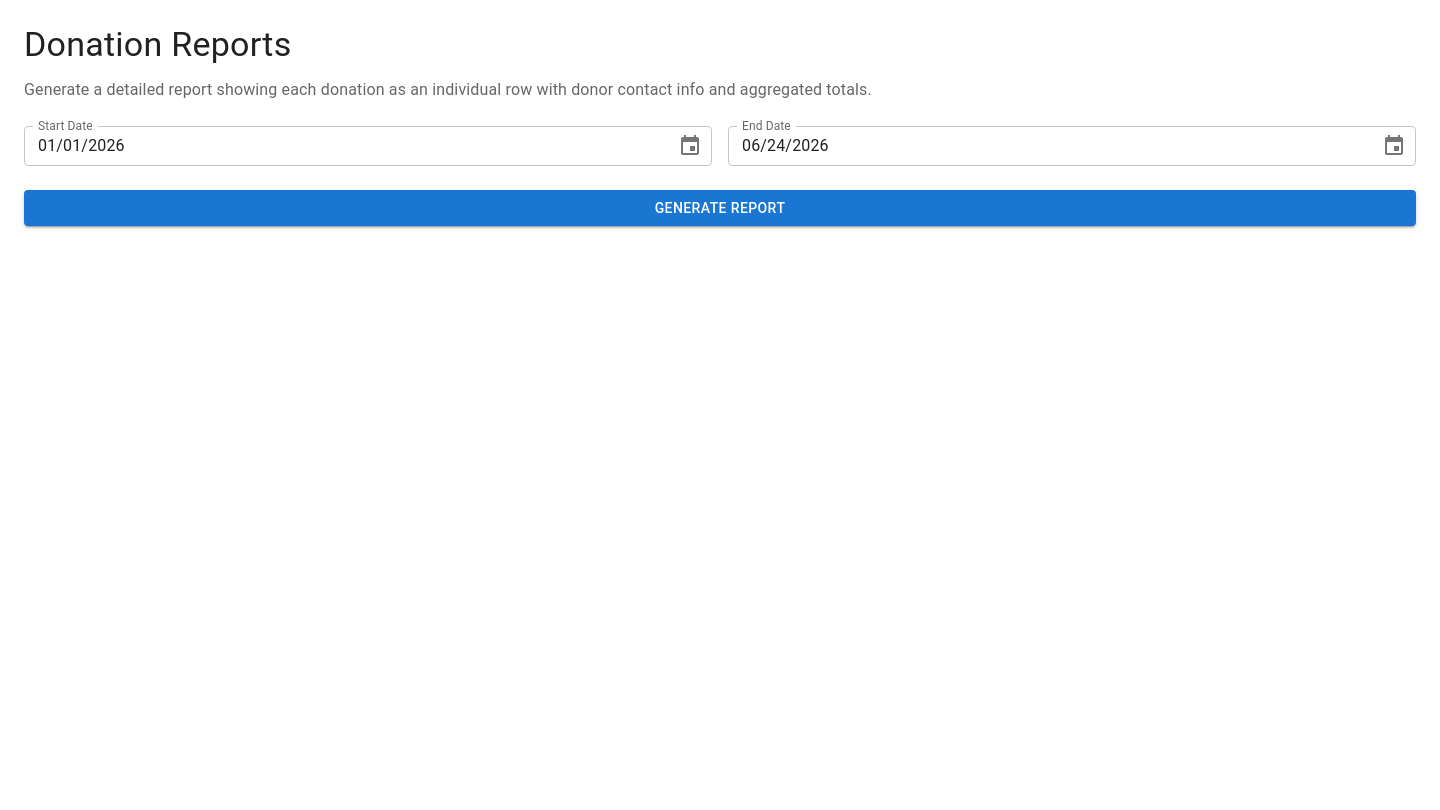
Scenario: ReportsPage › expands donor row when clicked to show donations
Click the button "Generate Report": (720, 208) [24,190,1416,226]
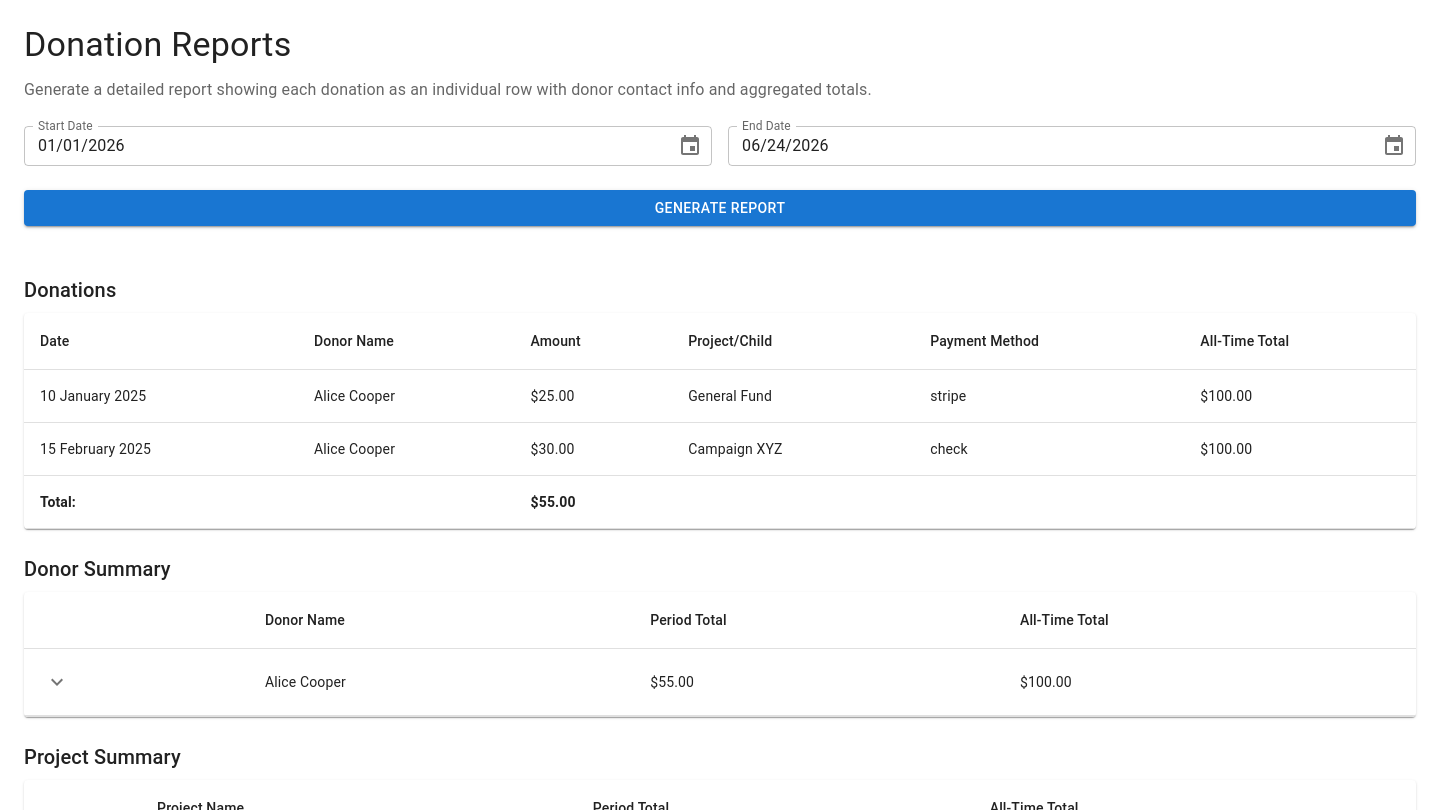
Expected: the heading "Donor Summary" is shown, [24,557,171,581]
Expected: the text "10 January 2025" is shown once, [24,370,298,423]
Expected: the text "15 February 2025" is shown once, [24,423,298,476]
// The last occurrence is in Section 2 (Donor Summary)
Click the 3rd text "Alice Cooper": (442, 682) [249,649,634,716]
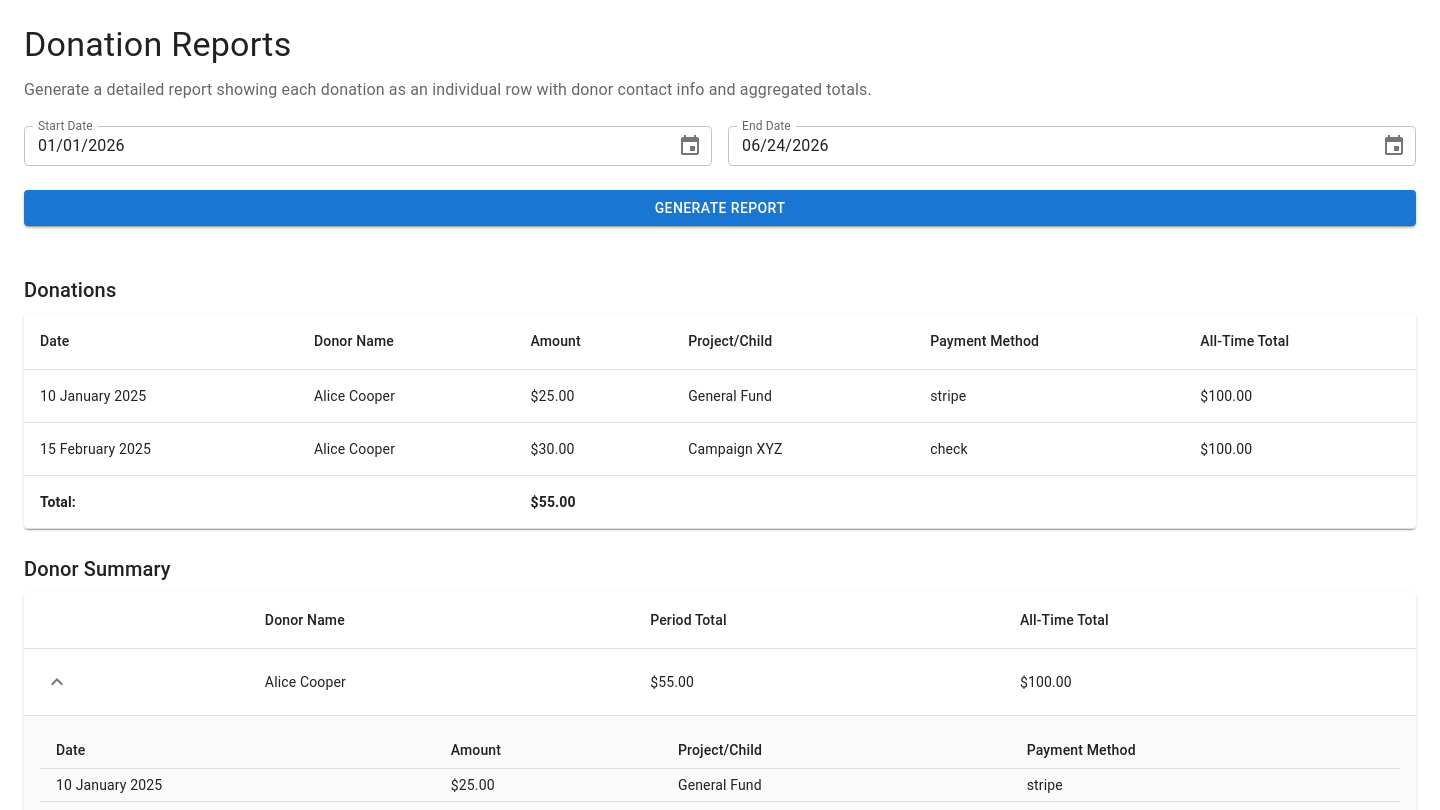
Expected: the 1st text "Campaign XYZ" is shown, [672,423,914,476]
Expected: the text "10 January 2025" is shown 2 times, [24,370,298,423]; [40,769,435,802]
